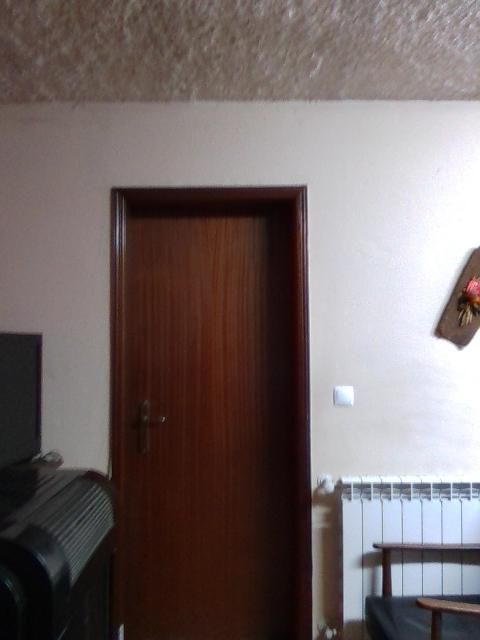door: (123, 204, 292, 637)
